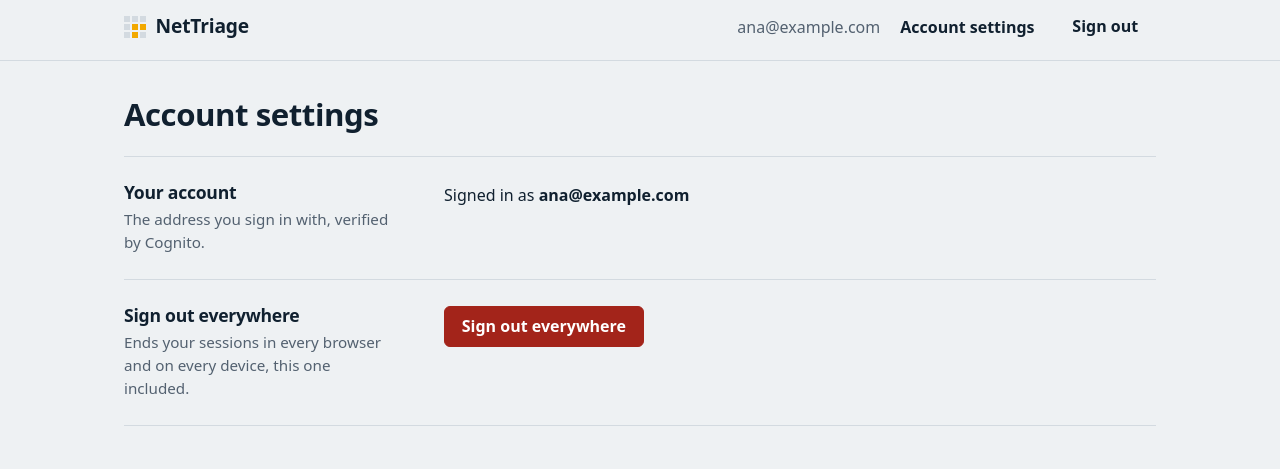
a sign-out that fails says why and keeps the person here
This screenshot has width=1280, height=469.
Click the button "Sign out everywhere" at (544, 327), box left=444, top=306, right=644, bottom=347
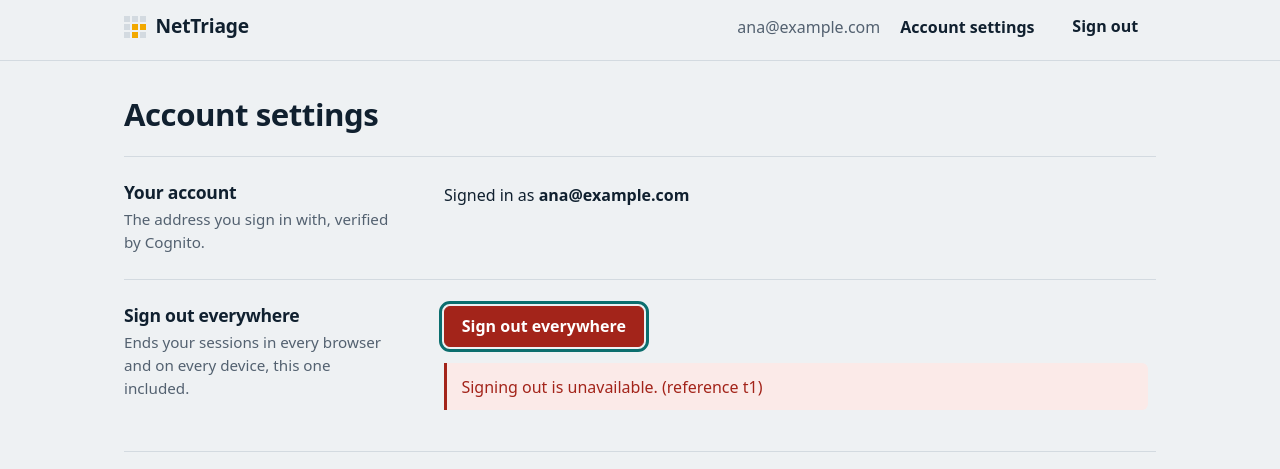
Now the message reads "Signing out is unavailable. (reference t1)", box left=461, top=376, right=762, bottom=398
